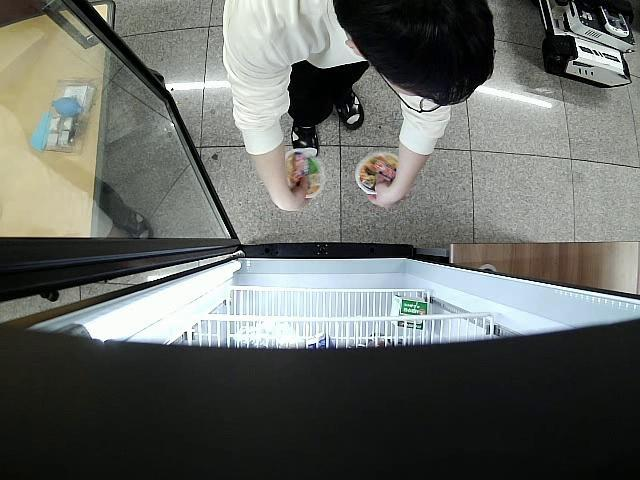09_yukGaeJang: (282, 149, 326, 202), (354, 152, 398, 196)
